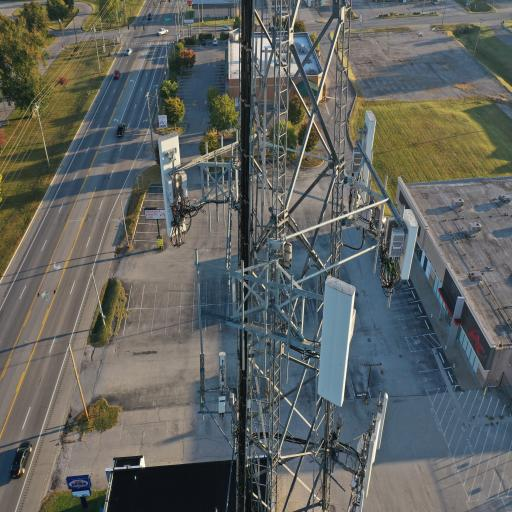supporting_tower: (145, 0, 435, 512)
